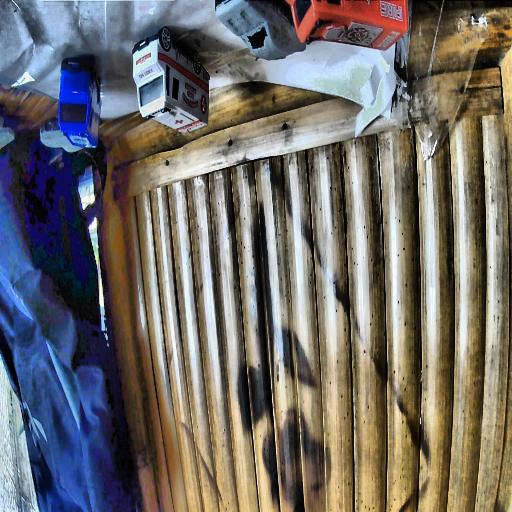ambulance: (131, 26, 210, 132)
fire_truck: (286, 0, 408, 47)
normal_car: (221, 1, 305, 59)
police car: (58, 56, 101, 146)
